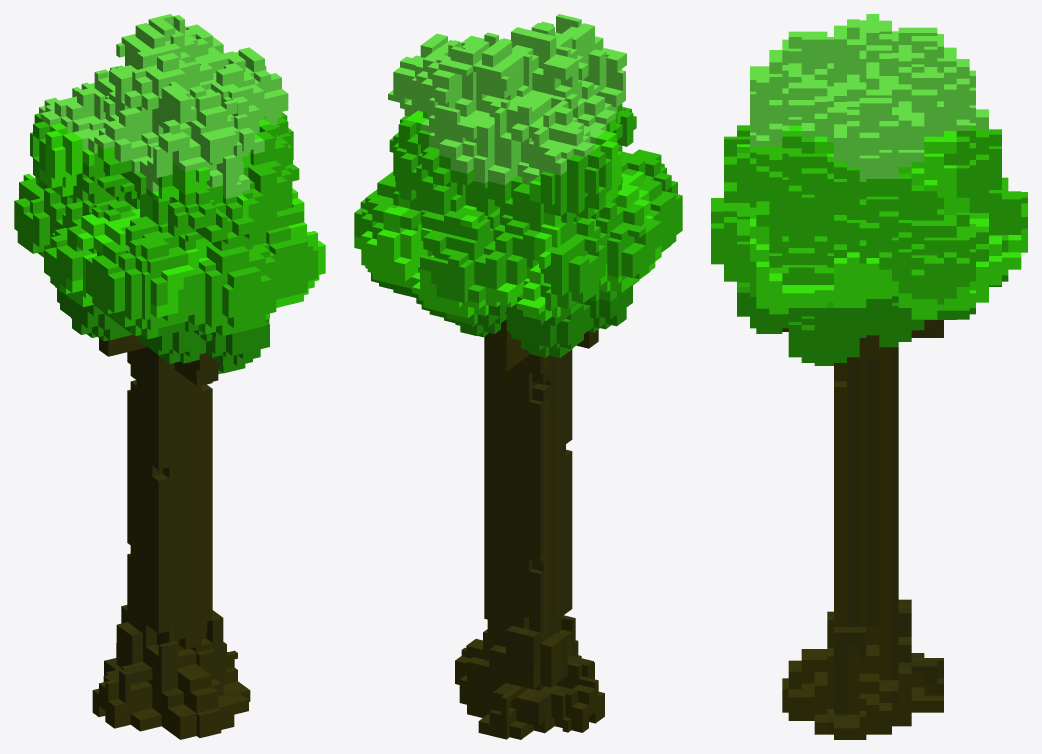
The model's file is tree.obj.
3 views of the same model, side by side, from view 1: azimuth 30°, elevation 25°; view 2: azimuth 150°, elevation 25°; view 3: azimuth 270°, elevation 25° (orthographic). The views are drawn at different scales.
Parts seen in each view (by area): view 1: my_tree_1; view 2: my_tree_1; view 3: my_tree_1.
Part boxes in pixels (x1,y1,x2,y2): my_tree_1: (14, 14, 325, 739); my_tree_1: (354, 14, 682, 739); my_tree_1: (711, 14, 1027, 739).
Size of the model in its own units: 43 by 116 by 49.
Materials: 1 (1 with a texture image).
